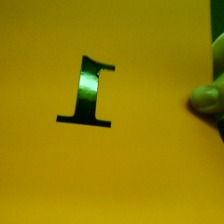orange1: (52, 45, 120, 133)
